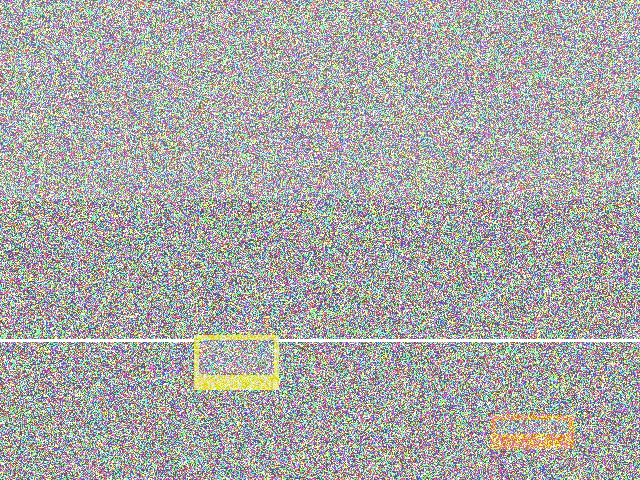bus: (460, 205, 567, 316), (388, 273, 507, 357)
